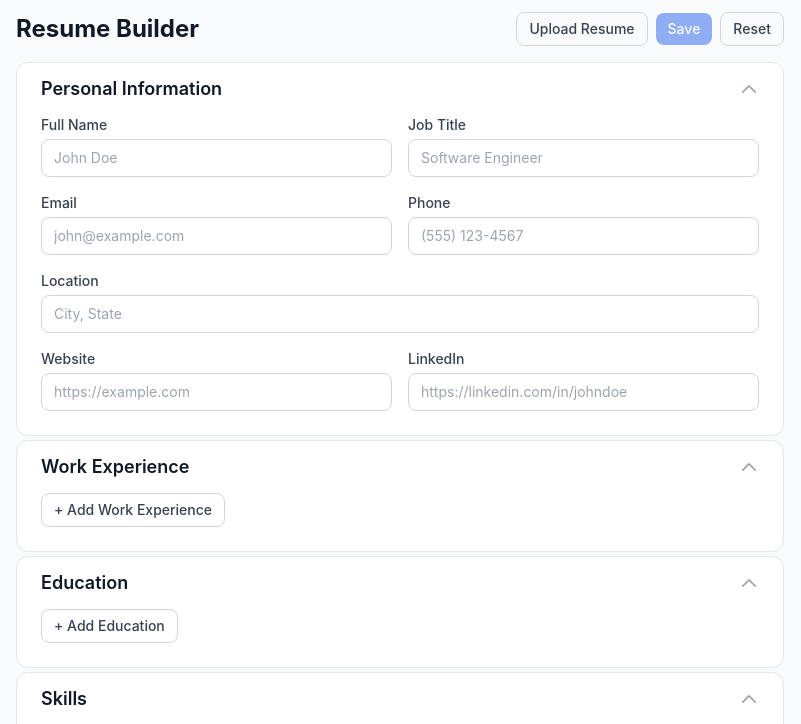
ResumeBuilder › shows error when upload fails with geminiKeyMissing
Click the button with test id "upload-resume-btn": (582, 29) [516,12,648,46]
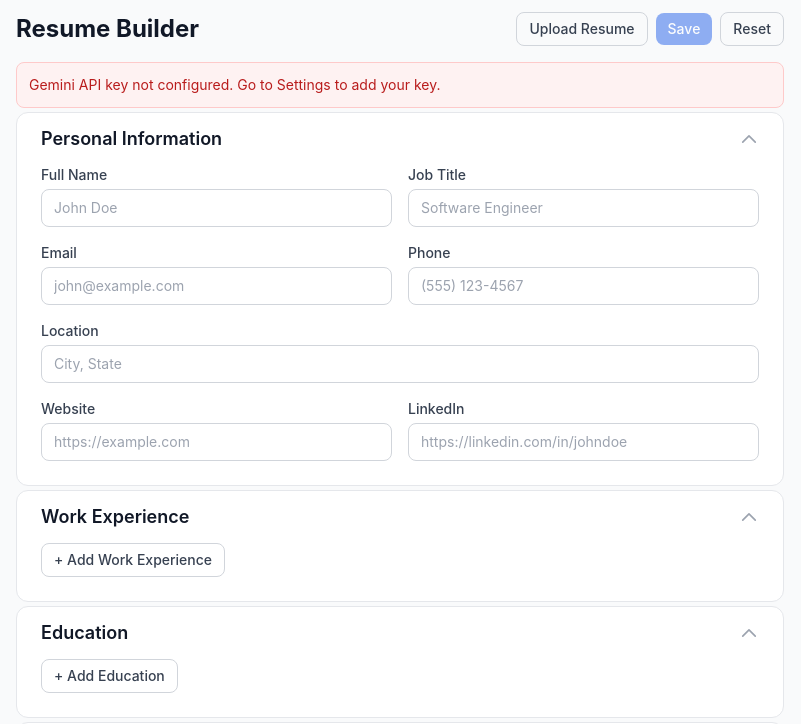
Now the text with test id "upload-error" is shown, box [16,62,784,108]
Now the text with test id "upload-error" shows "Gemini API key not configured", box [29,76,440,93]
